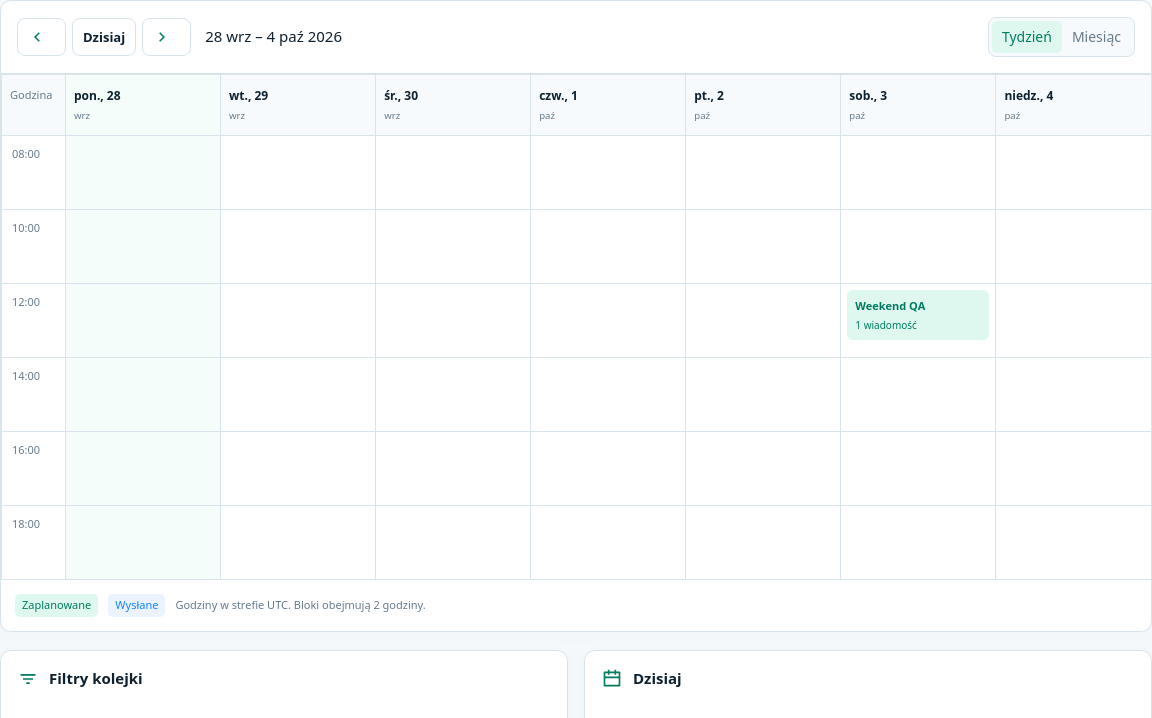
Scenario: calendar and schedule › clears a selected weekend group when weekends become hidden
The width and height of the screenshot is (1152, 718).
Click the button with aria-label "Weekend QA, 2026-10-03" at (918, 315), box x1=847 y1=290 x2=989 y2=340
(page scrolled)
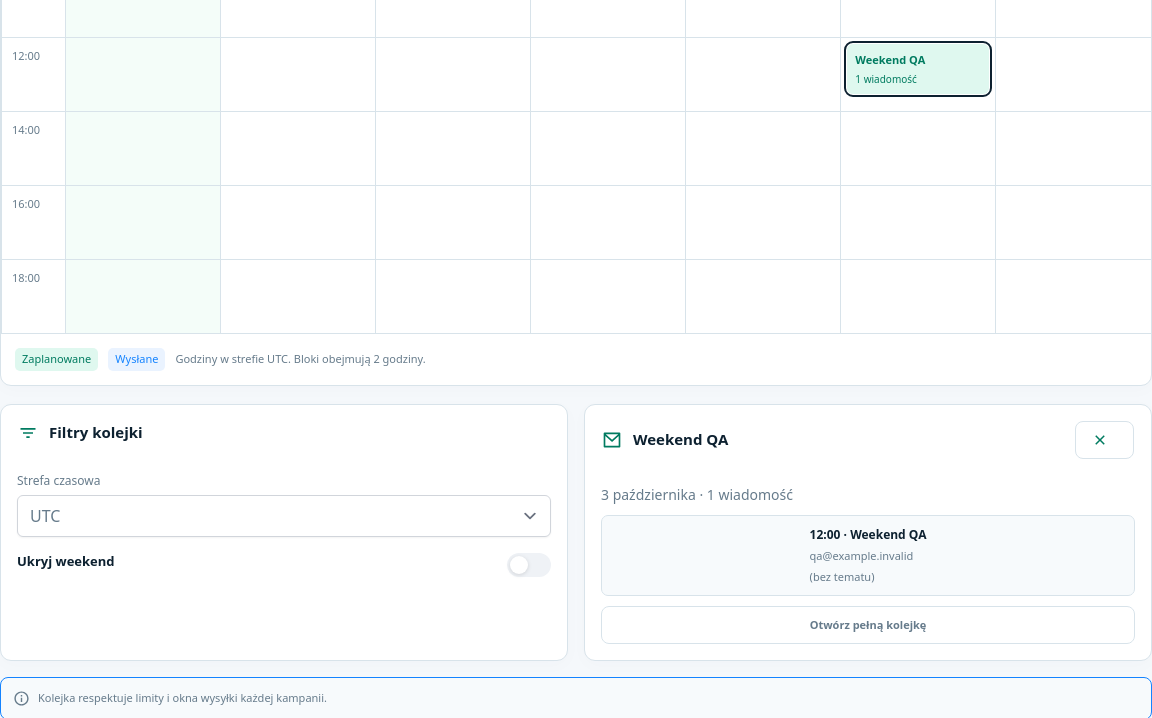
Now the heading "Weekend QA" is shown, box x1=602 y1=429 x2=728 y2=450
Click the switch named "Ukryj weekend" at (529, 565), box x1=507 y1=553 x2=551 y2=577
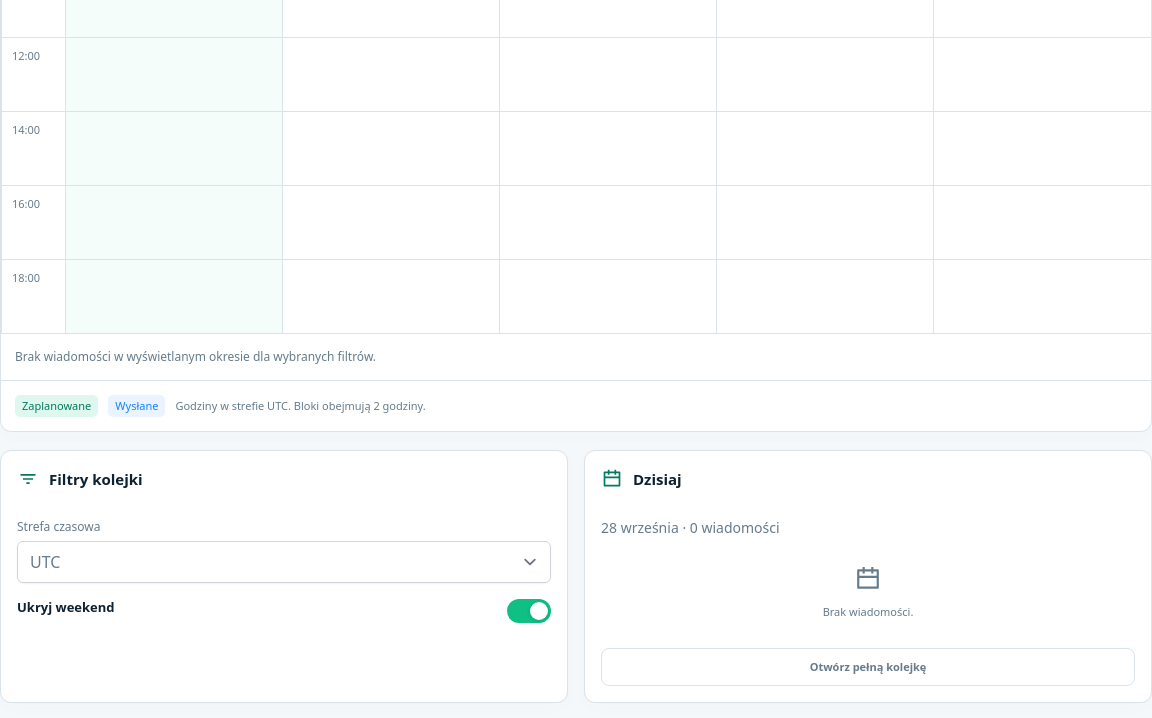
Now the button "Weekend QA" is gone
Now the heading "Dzisiaj" is shown, box x1=602 y1=469 x2=682 y2=490
